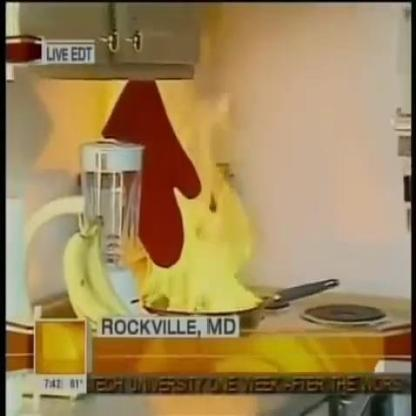fire: (124, 80, 261, 313)
